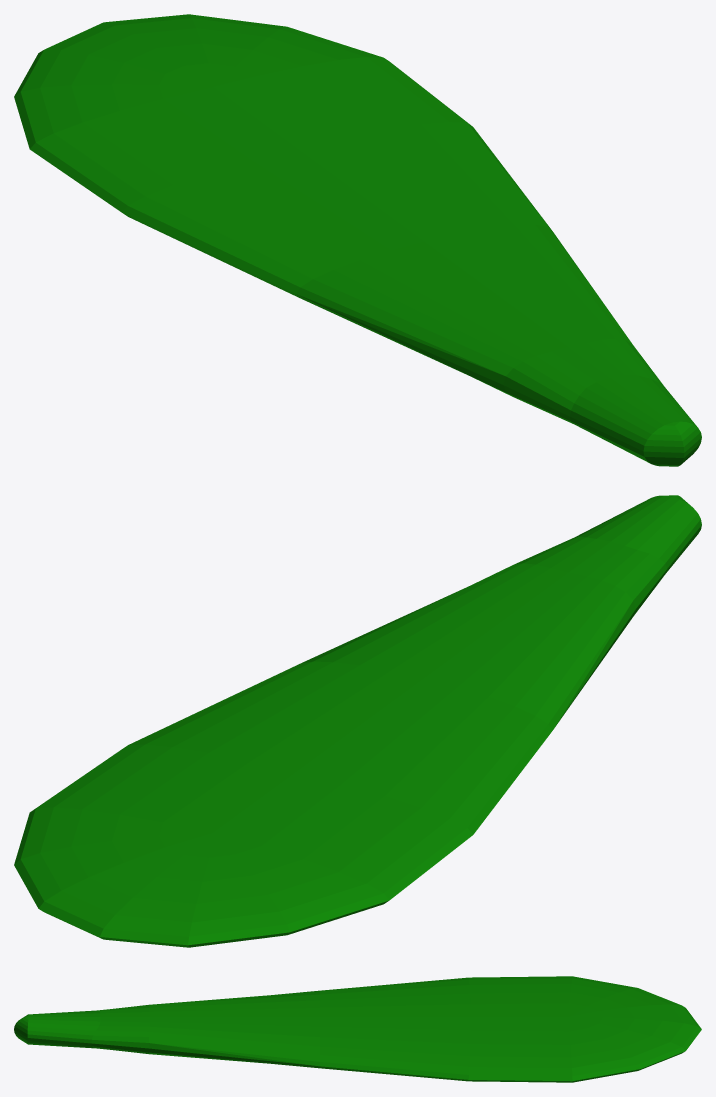
Rendered from Mere.fbx.
3 views of the same model, one above another, from view 1: azimuth 30°, elevation 25°; view 2: azimuth 150°, elevation 25°; view 3: azimuth 270°, elevation 25° (orthographic). The views are drawn at different scales.
Visible parts, largest first — view 1: Mere; view 2: Mere; view 3: Mere.
Part boxes in pixels (x1,y1,x2,y2): Mere: [14, 14, 701, 466]; Mere: [14, 495, 701, 947]; Mere: [14, 976, 701, 1082].
Size of the model in its own units: 17.78 by 2 by 50.
